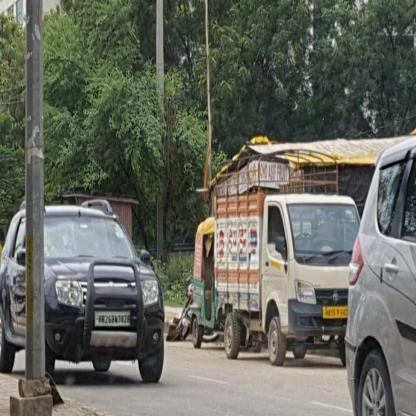car: (0, 196, 164, 386), (344, 130, 416, 416)
truck: (216, 149, 362, 366)
